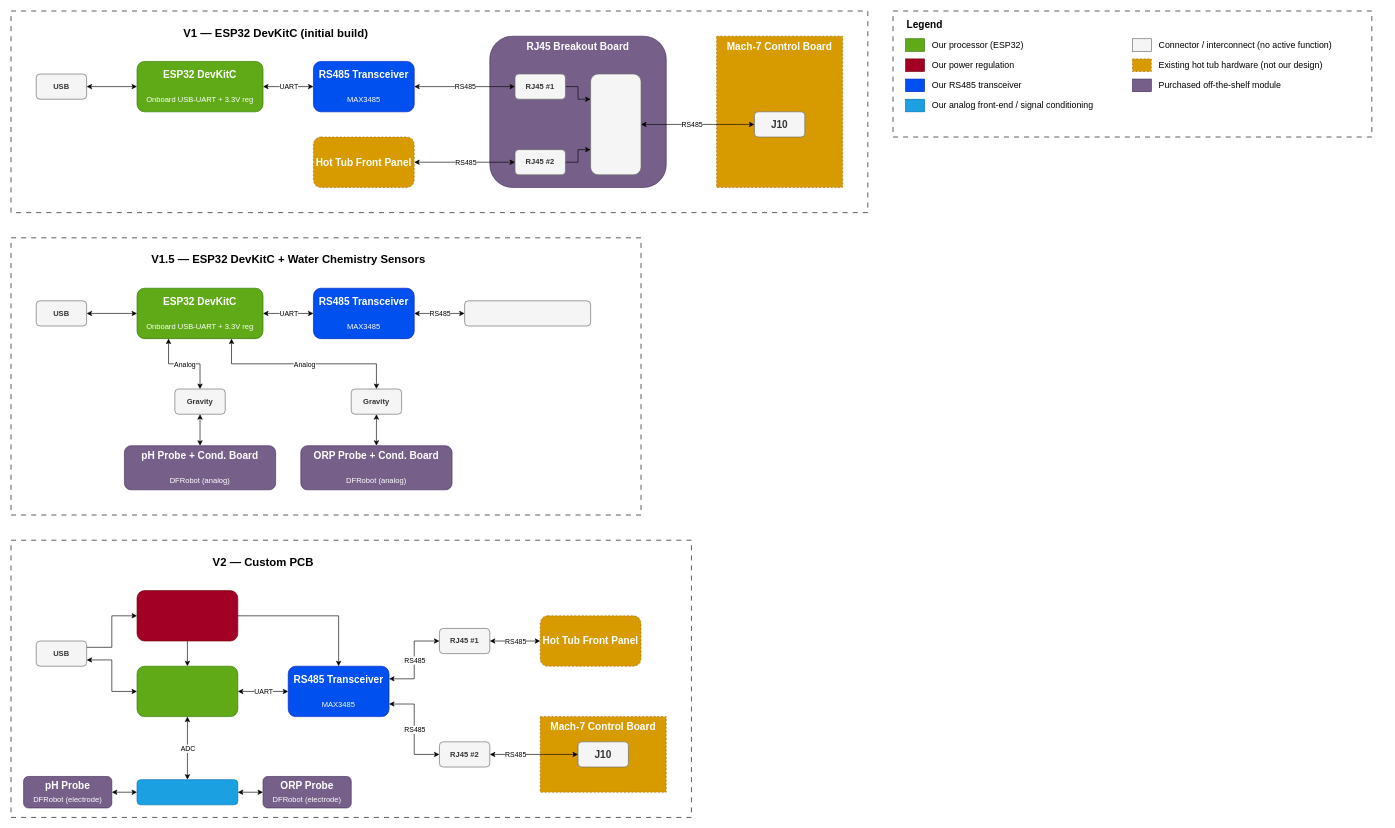
This 1395x828 diagram has some shape labels left out. Each missing label, with the centre of its shape:
"Analog Front-End pH/ORP conditioning" goes at (x=187, y=792).
"Power Supply Buck Converter | 3.3V" goes at (x=187, y=615).
"Processor ESP32" goes at (x=187, y=691).
"Screw Terminals" goes at (x=615, y=124).
"To Hot Tub (RJ45 tap — see V1)" goes at (x=527, y=313).
